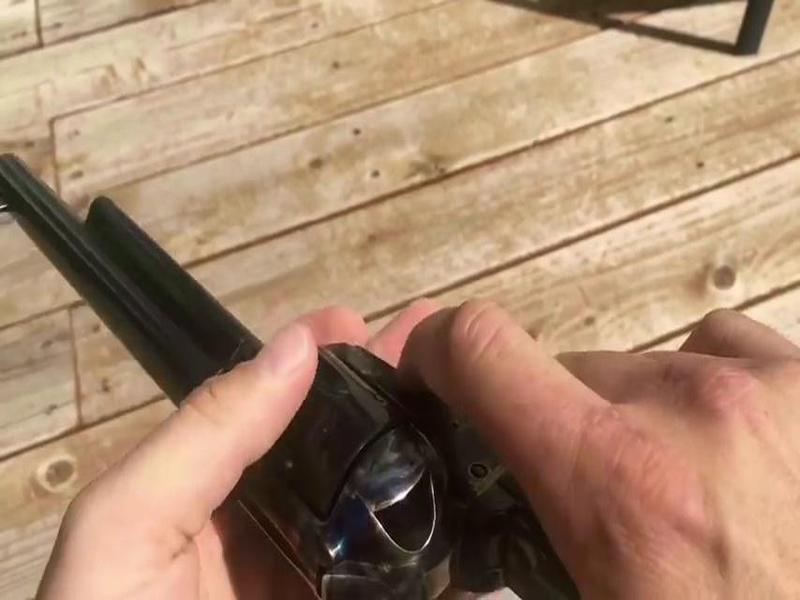Revolver: (24, 156, 606, 597)
